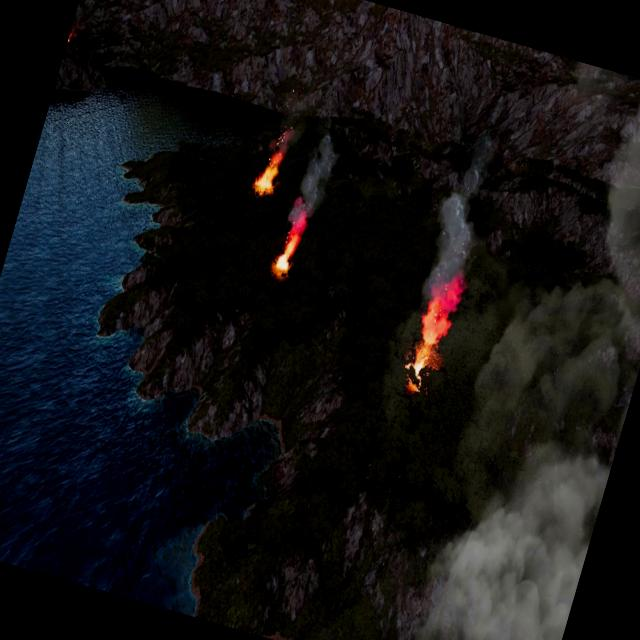fire: (402, 274, 466, 383), (272, 208, 310, 279), (250, 146, 284, 196)
smoke: (384, 56, 640, 640), (414, 129, 504, 308), (281, 129, 342, 253), (264, 84, 312, 172)
